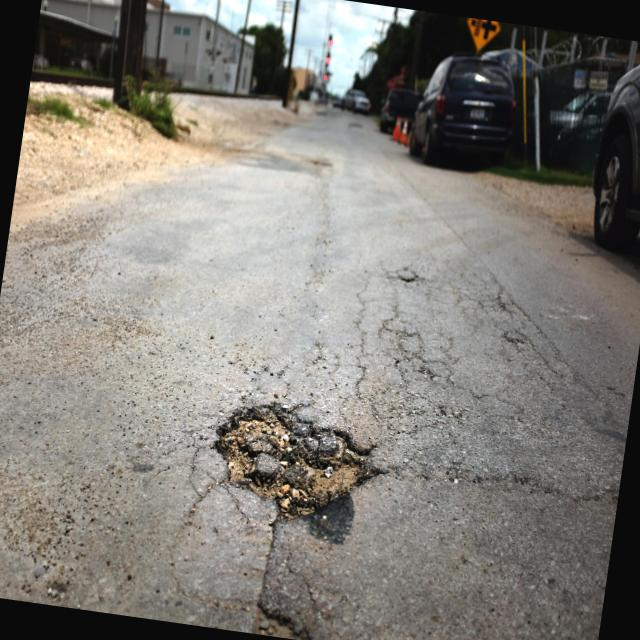bad-road: (205, 392, 393, 532), (253, 599, 321, 640)
